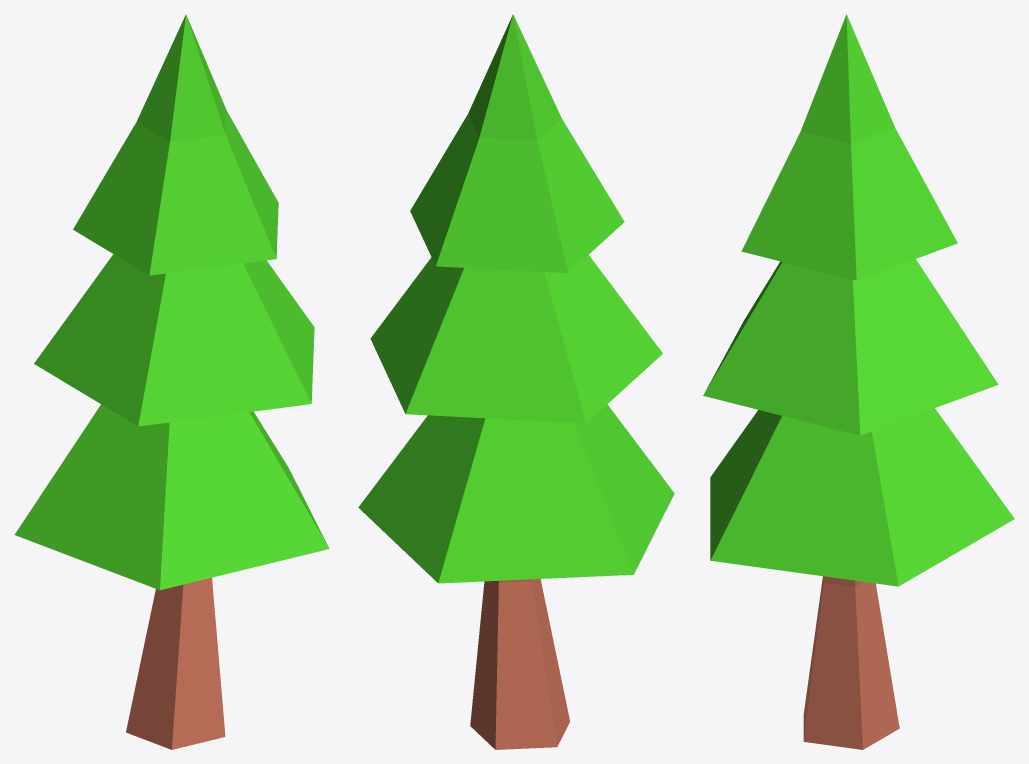
3 views of the same model, side by side, from view 1: azimuth 30°, elevation 25°; view 2: azimuth 150°, elevation 25°; view 3: azimuth 270°, elevation 25° (orthographic).
Visible parts, largest first — view 1: 円柱, 円; view 2: 円柱, 円; view 3: 円柱, 円.
Part boxes in pixels (left/top/right/bottom): 円柱: left=14, top=14, right=329, bottom=590; 円: left=126, top=577, right=225, bottom=749; 円柱: left=358, top=14, right=674, bottom=583; 円: left=470, top=579, right=569, bottom=749; 円柱: left=703, top=14, right=1014, bottom=586; 円: left=803, top=576, right=899, bottom=749.
Size of the model in its own units: 245 by 591 by 232.
